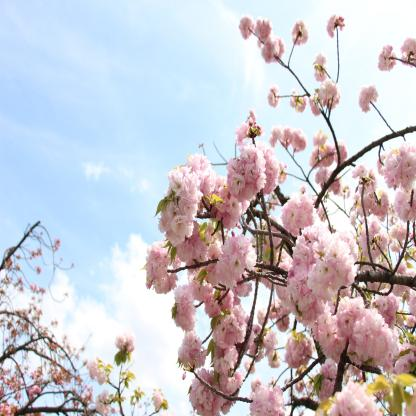YaeSakura: (149, 14, 416, 415), (0, 217, 165, 416)
